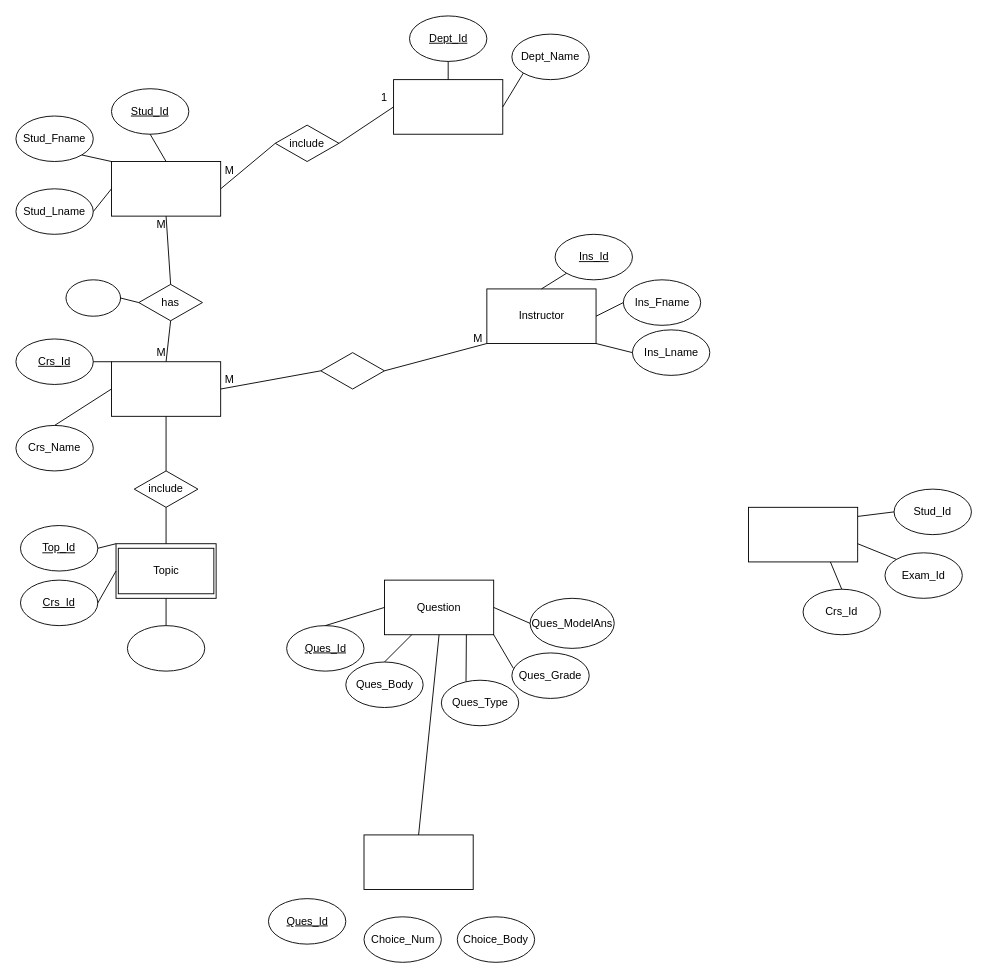
Image size: 987x978. Some labels were removed from this diagram. Here are the shapes that lost their labels. From the top down, the box of each, then its label:
(393, 79, 503, 134): Department
(111, 161, 221, 216): Student
(65, 279, 121, 316): grade
(111, 361, 221, 416): Course
(320, 352, 384, 389): Teach
(748, 506, 858, 562): Exam created empty, filled using SP ExamGeneration
(126, 625, 205, 671): Top_Name
(363, 834, 473, 890): Choice
